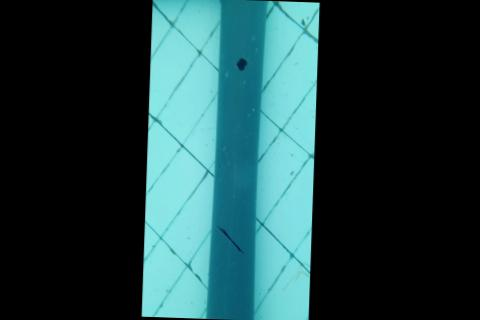kebocoran: (234, 56, 249, 72)
keretakan: (215, 224, 245, 257)
